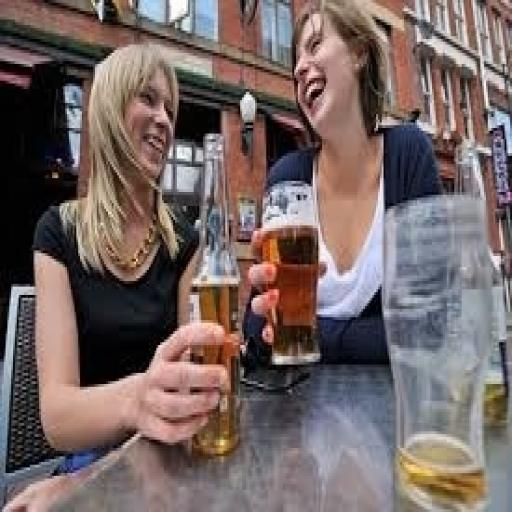drinking: (186, 131, 242, 456), (259, 178, 320, 365)
